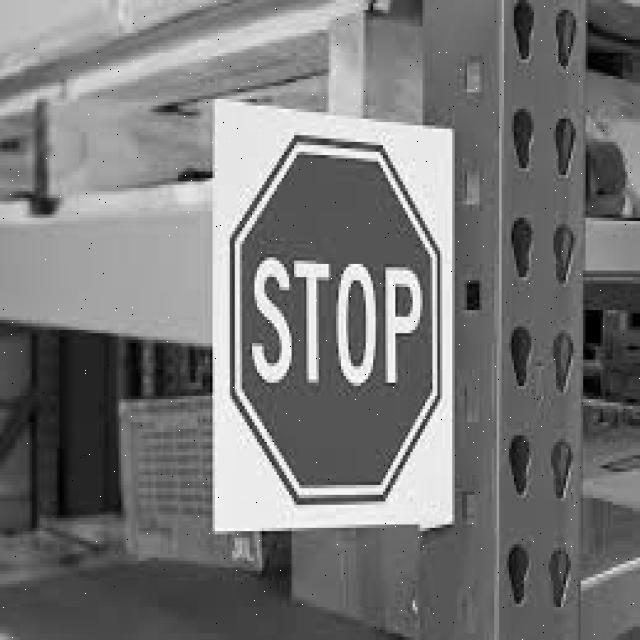stop sign: (234, 128, 446, 505)
